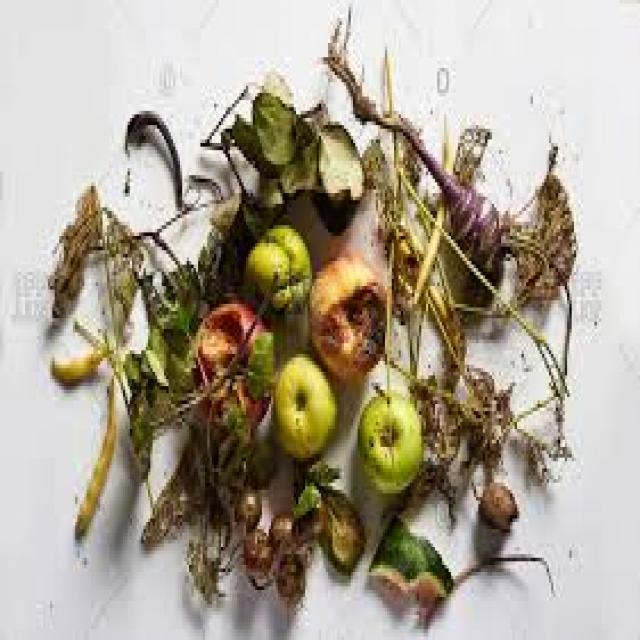organic waste: (324, 25, 504, 293), (394, 350, 565, 526), (139, 404, 271, 604), (364, 128, 458, 364), (308, 182, 387, 376), (116, 261, 180, 476), (198, 78, 283, 214), (189, 293, 269, 433), (506, 161, 572, 307), (417, 551, 551, 622), (410, 114, 455, 311), (290, 458, 364, 572), (367, 504, 451, 601), (355, 386, 424, 497), (46, 182, 102, 318), (160, 264, 214, 397), (120, 107, 186, 215), (73, 372, 114, 536), (271, 350, 335, 454), (242, 218, 308, 308), (314, 114, 362, 229), (103, 208, 141, 326), (273, 104, 319, 193), (251, 86, 305, 157), (207, 186, 260, 247), (189, 243, 244, 300), (48, 340, 107, 382), (246, 332, 278, 400), (448, 122, 489, 175), (471, 479, 517, 526), (241, 518, 271, 580), (268, 547, 300, 594), (266, 508, 303, 547), (230, 482, 260, 526)
